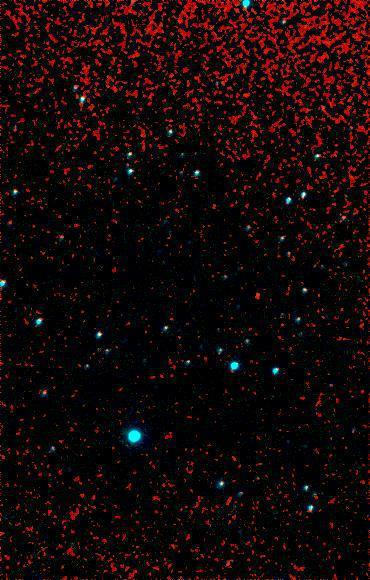star: (241, 282, 271, 312)
